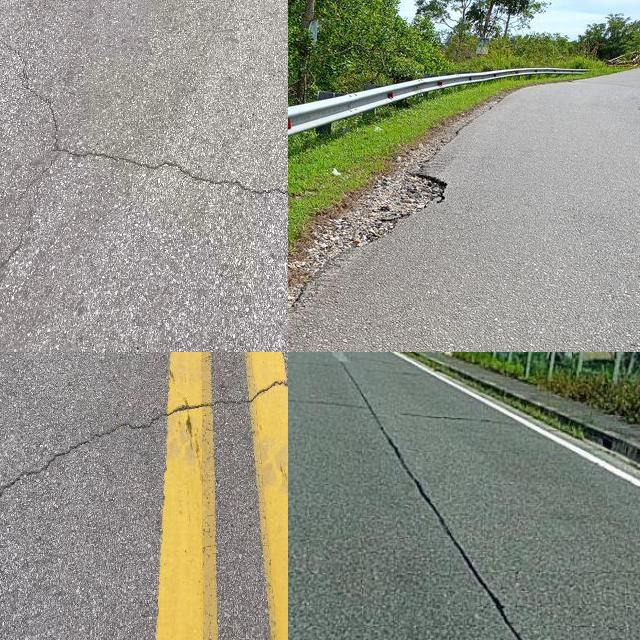Melintang: (0, 371, 288, 510), (40, 138, 288, 209)
Memanjang: (334, 362, 535, 640)
Pinggir: (288, 153, 461, 344)
